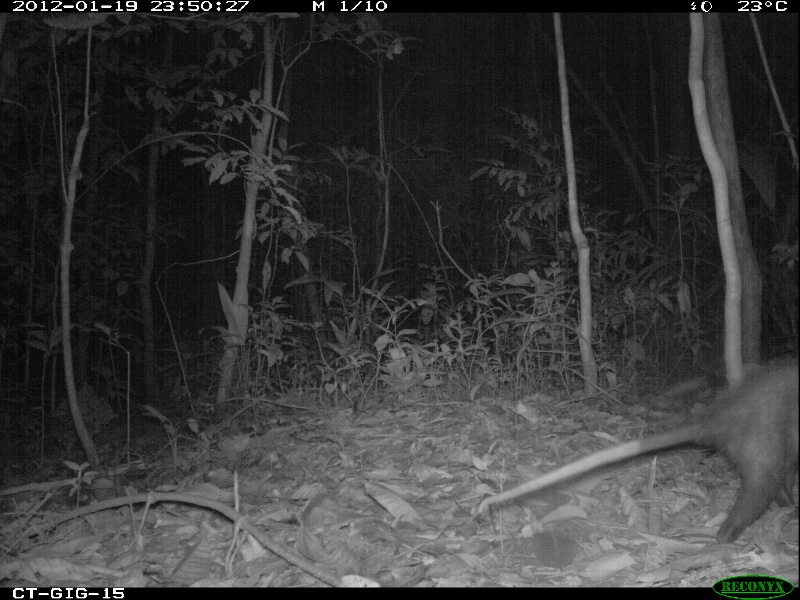opossum: (475, 336, 800, 552)
